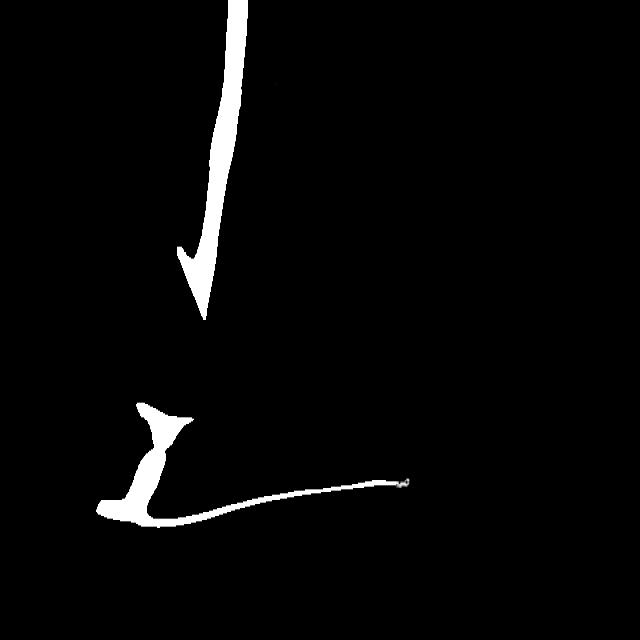stp: (391, 465, 425, 500)
